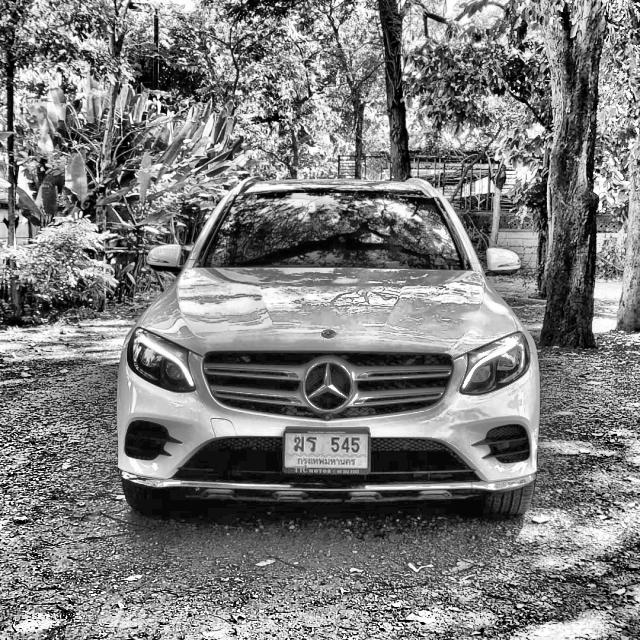license-plate: (285, 425, 371, 474)
